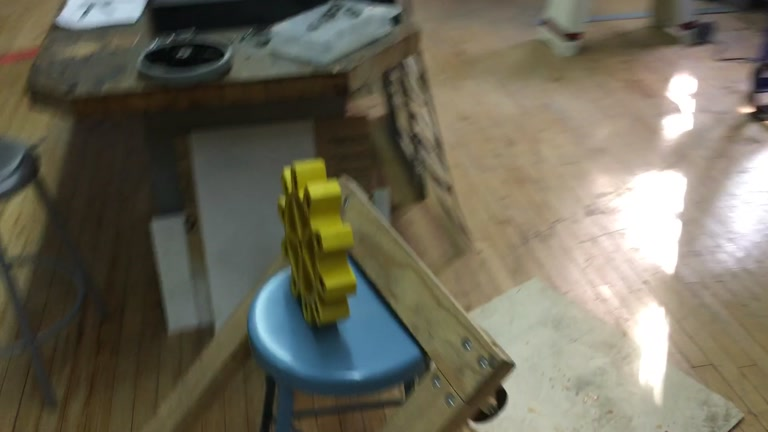gear: (275, 154, 359, 329)
